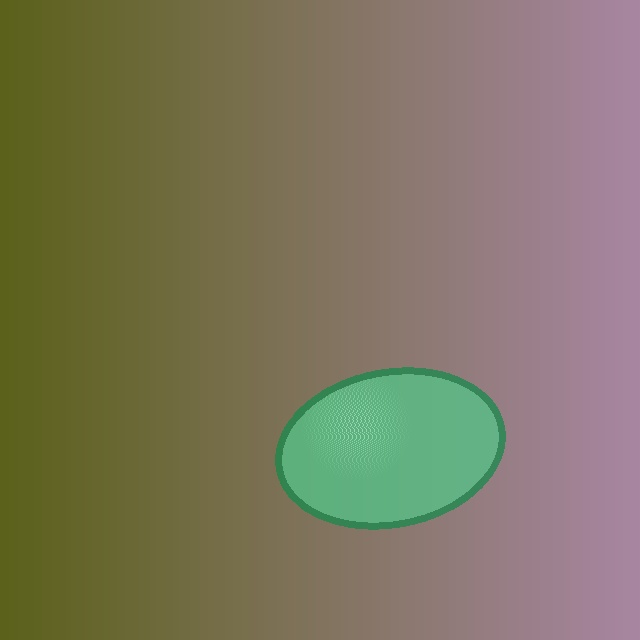lens: (279, 370, 501, 526)
